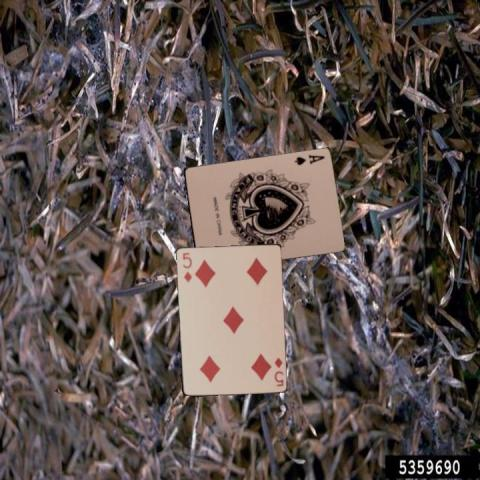5d: (179, 250, 193, 284), (271, 354, 285, 387)
As: (291, 152, 326, 167)
